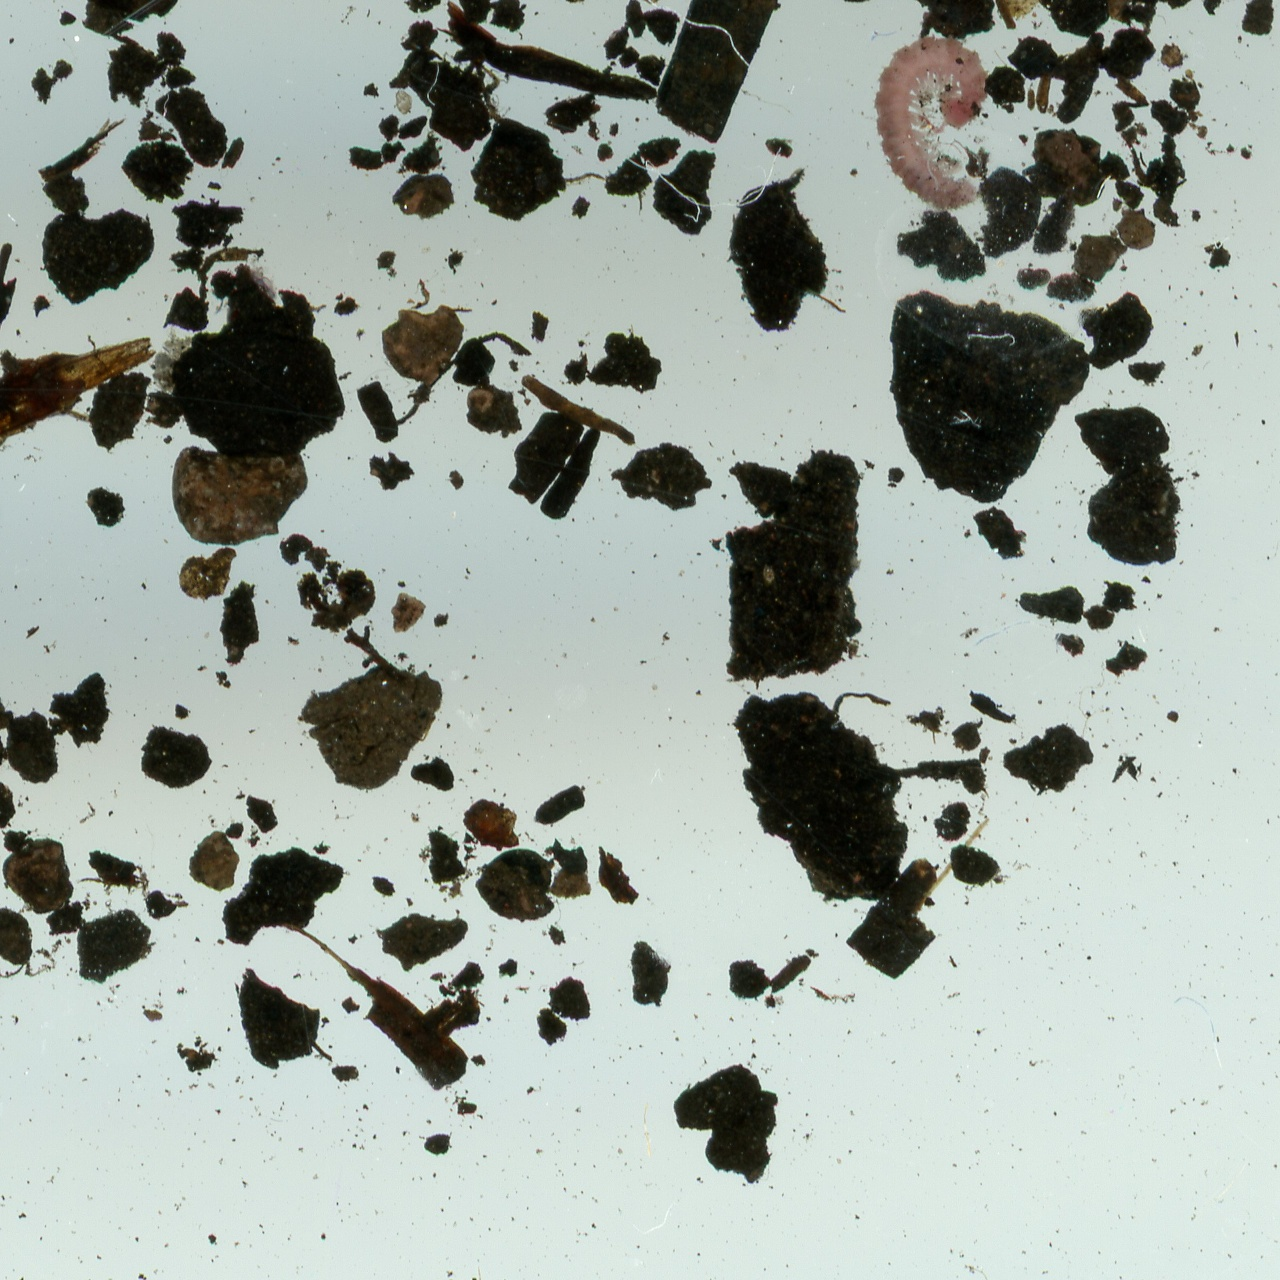arthropod: (870, 33, 989, 213)
